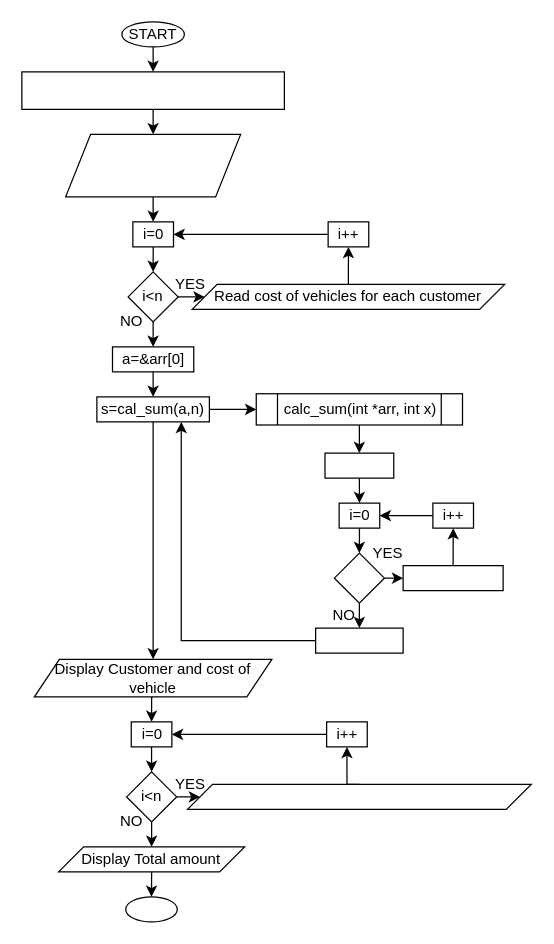
The diagram is 554 pixels wide and 944 high, and some of its shapes have lost their labels. The shapes that lost their labels are listed below. From the top down, each one's box as (x1, y1, x2, y2) in pixels, then its label:
(21, 71, 284, 109): Declare the required variables, integer arrays and calc_sum function
(64, 133, 241, 197): Get the number of customers from the user(n)
(324, 452, 394, 478): sum=0
(333, 552, 384, 603): i<x
(402, 564, 503, 591): sum += *arr++
(314, 627, 403, 653): Return sum
(186, 783, 531, 809): Display customer number and cost of vehicle
(124, 896, 177, 922): STOP
